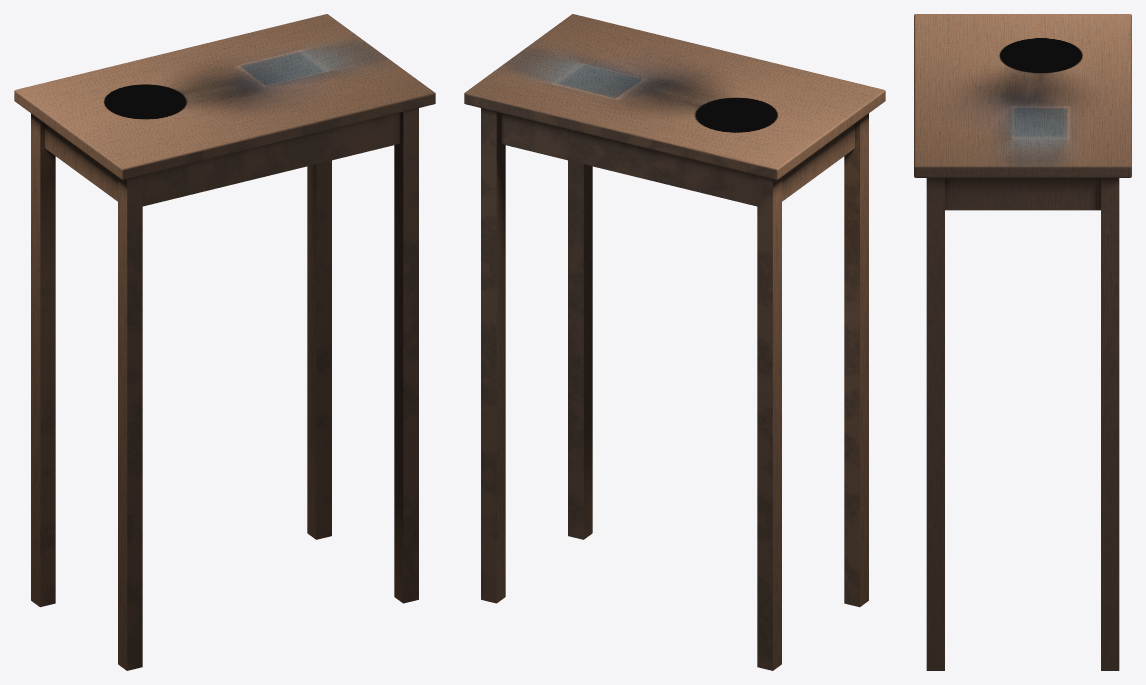
The model's file is 809_react.glb.
The picture shows the model from 3 angles, left to right: view 1: azimuth 30°, elevation 25°; view 2: azimuth 150°, elevation 25°; view 3: azimuth 270°, elevation 25°; orthographic projection.
Parts seen in each view (by area): view 1: Table; view 2: Table; view 3: Table.
Part boxes in pixels (x1,y1,x2,y2): Table: (14,14,435,670); Table: (464,14,885,670); Table: (914,14,1131,670).
Size of what is drawn, in the model's own units: 2 by 3.1 by 1.2.
1 material, 1 textured.
